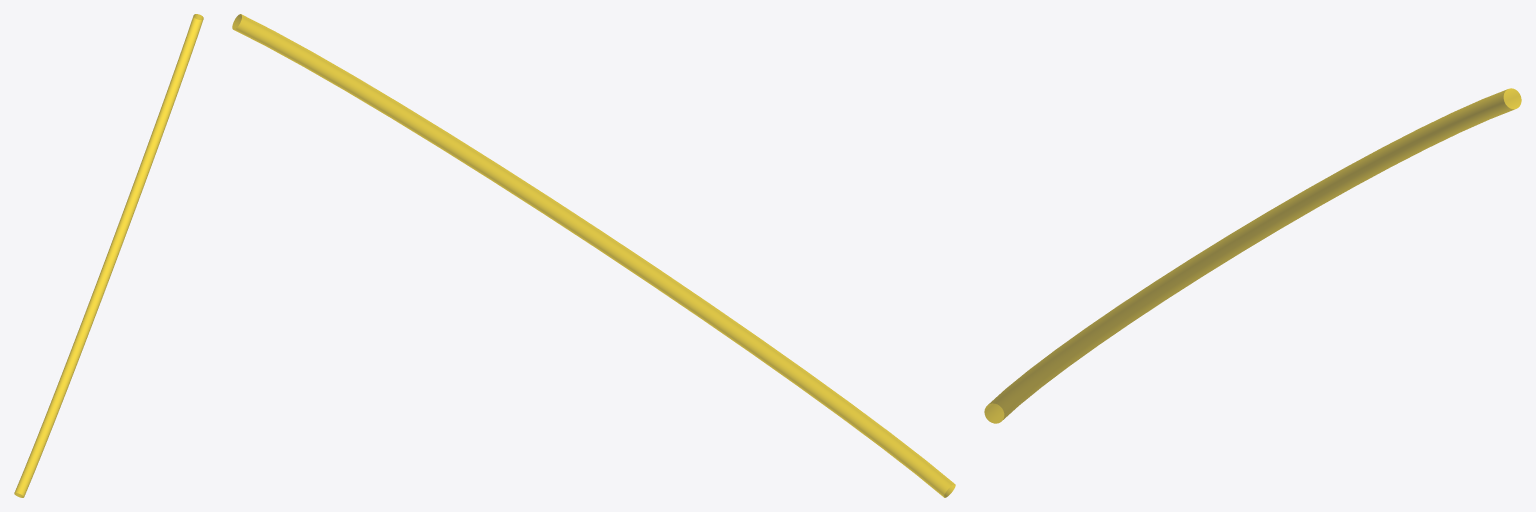
Rendered from Event_75125125_track_103.fbx.
3 views of the same model, side by side, from view 1: azimuth 30°, elevation 25°; view 2: azimuth 150°, elevation 25°; view 3: azimuth 270°, elevation 25° (orthographic). The views are drawn at different scales.
Parts seen in each view (by area): view 1: Model; view 2: Model; view 3: Model.
Part boxes in pixels (<box>): Model: <box>14,14,203,497</box>; Model: <box>232,14,955,497</box>; Model: <box>984,88,1521,423</box>.
Bounding box in the file's own units: 1.36 × 1.29 × 0.9968.
